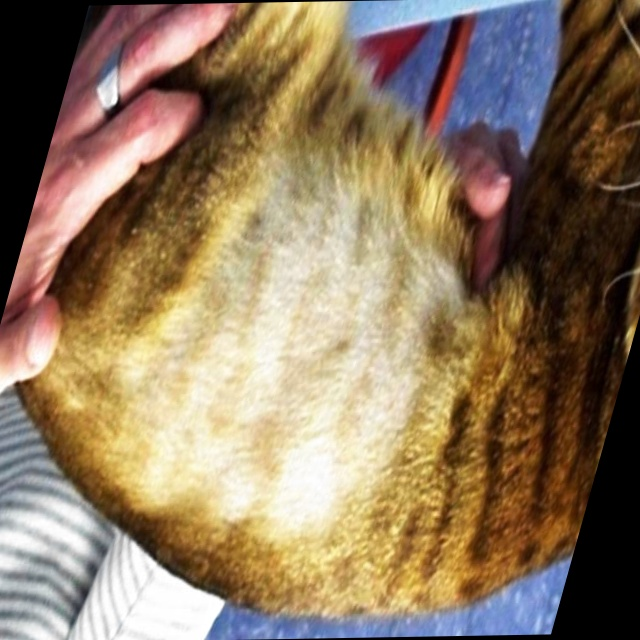hairloss: (133, 161, 494, 572)
